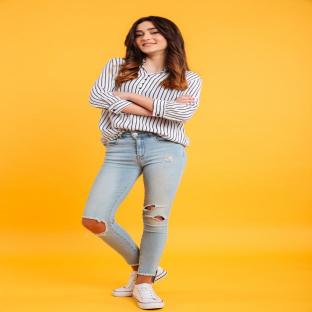Human: (82, 16, 201, 309)
